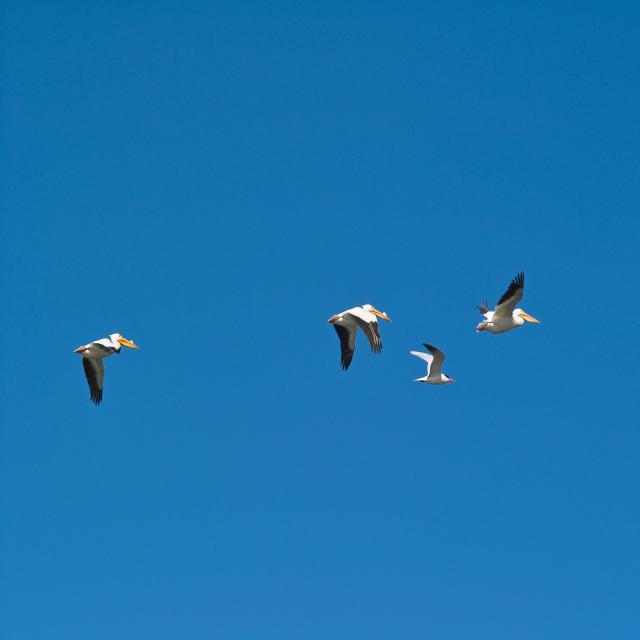bird: (75, 332, 140, 410), (324, 304, 394, 372), (475, 266, 541, 337), (412, 346, 459, 389)
